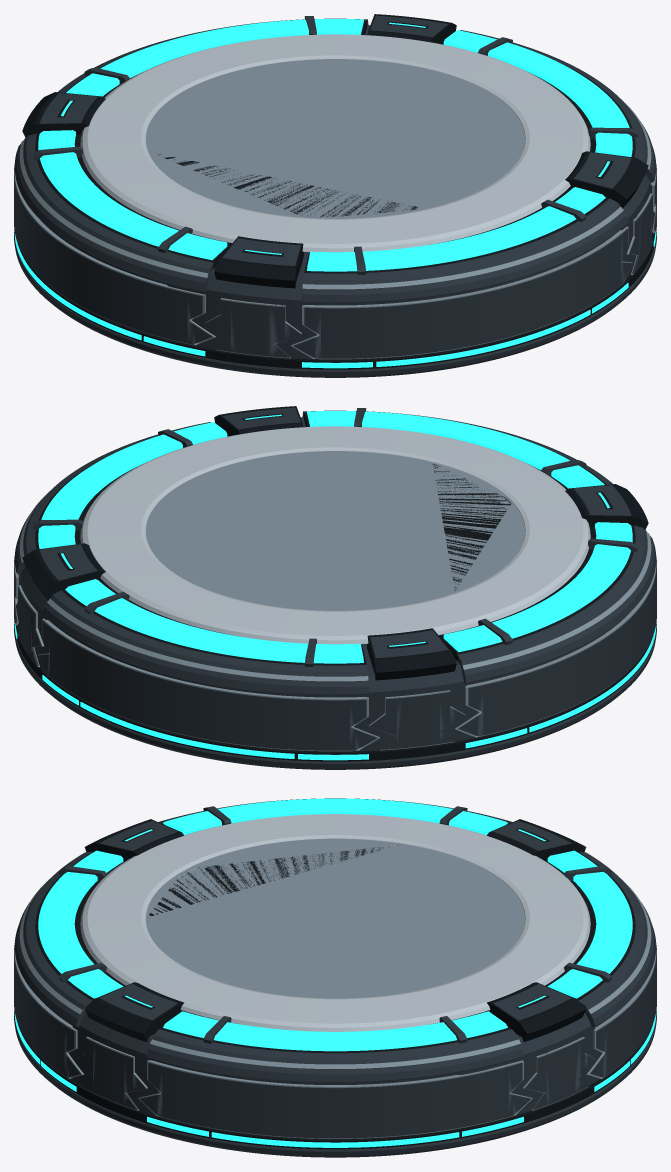
Rendered from Bouncer.fbx.
The picture shows the model from 3 angles, top to bottom: view 1: azimuth 30°, elevation 25°; view 2: azimuth 150°, elevation 25°; view 3: azimuth 270°, elevation 25°; orthographic projection.
Parts seen in each view (by area): view 1: SM_Puck_Bouncer_HighDetail; view 2: SM_Puck_Bouncer_HighDetail; view 3: SM_Puck_Bouncer_HighDetail.
Part boxes in pixels (x1,y1,x2,y2): SM_Puck_Bouncer_HighDetail: (14, 14, 656, 377); SM_Puck_Bouncer_HighDetail: (14, 406, 656, 769); SM_Puck_Bouncer_HighDetail: (14, 798, 656, 1157).
Bounding box in the file's own units: 86.5 × 86.5 × 16.1.
